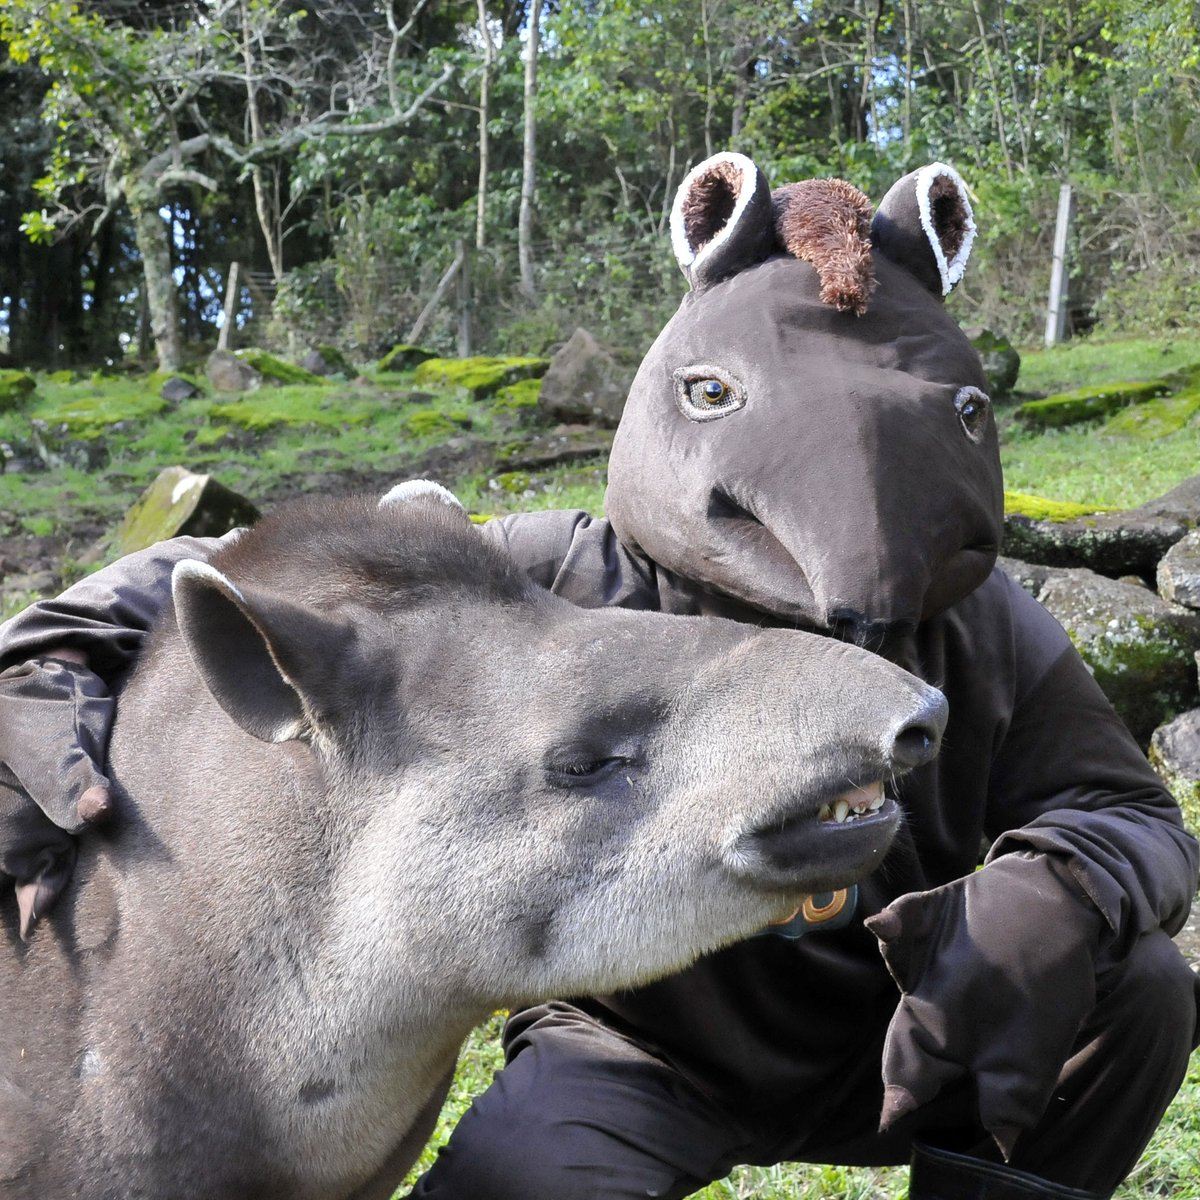Anta: (46, 478, 951, 1173)
